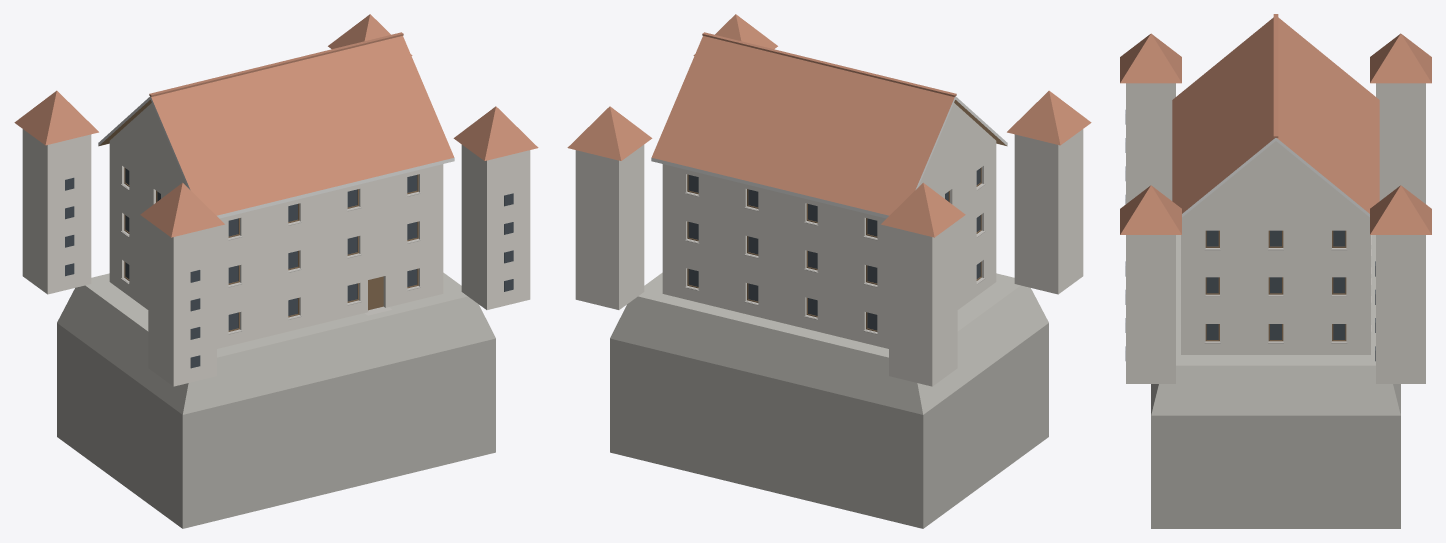
File: nordic_castle_3_m.glb
3 renders of one model, left to right at view 1: azimuth 30°, elevation 25°; view 2: azimuth 150°, elevation 25°; view 3: azimuth 270°, elevation 25°, orthographic.
Parts seen in each view (by area): view 1: nordic_castle_3_m; view 2: nordic_castle_3_m; view 3: nordic_castle_3_m.
Boxes of the visible parts, x1,y1,x2,y2 form: nordic_castle_3_m: (14,14,538,528); nordic_castle_3_m: (567,14,1091,528); nordic_castle_3_m: (1120,14,1431,528).
Bounding box in the file's own units: 26.97 × 26.71 × 19.97.
